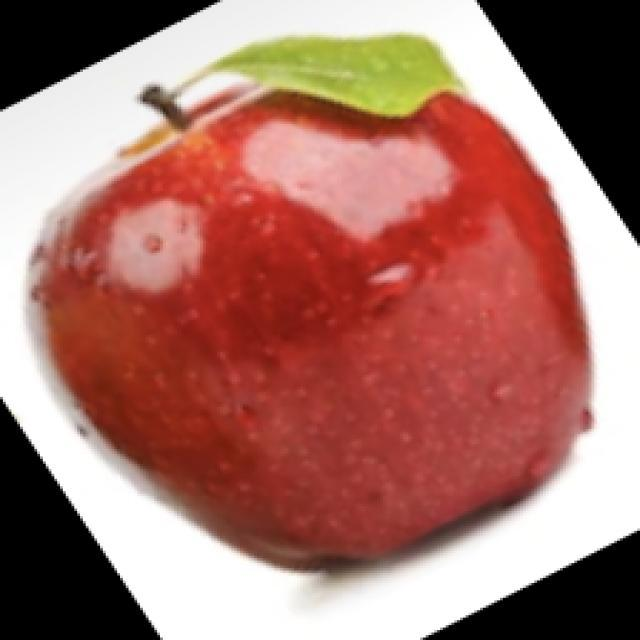Fresh Apple: (50, 82, 588, 573)
